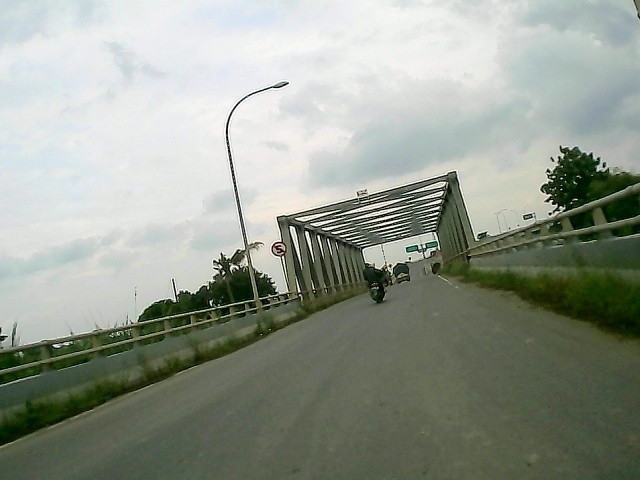Dilarang berhenti: (269, 239, 289, 259)
